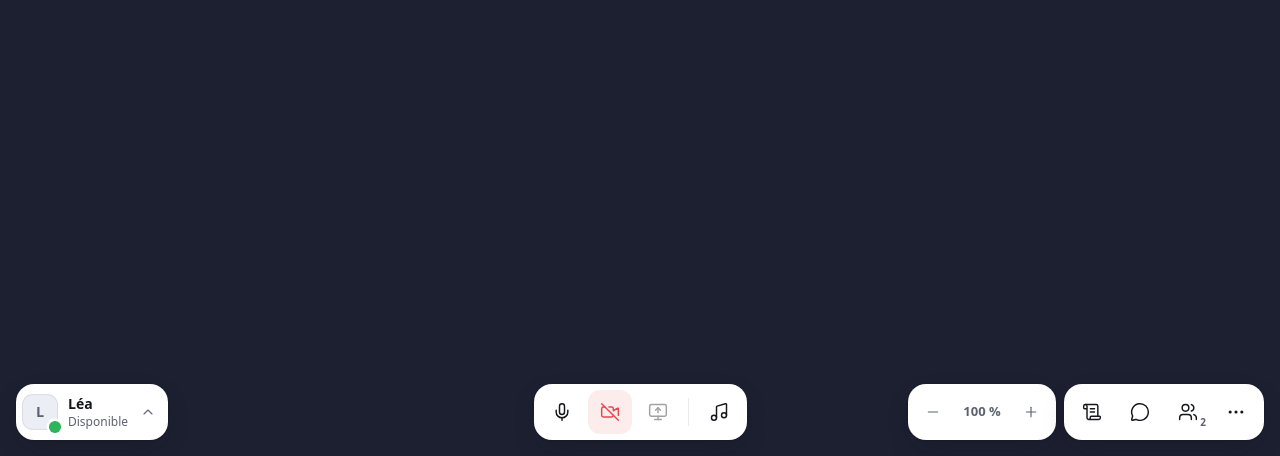
Test: Se déconnecter › pendant la déconnexion : « Déconnexion… », inactif
Click the button with aria-label "Mon profil" at x=92, y=412, box [16, 384, 168, 440]
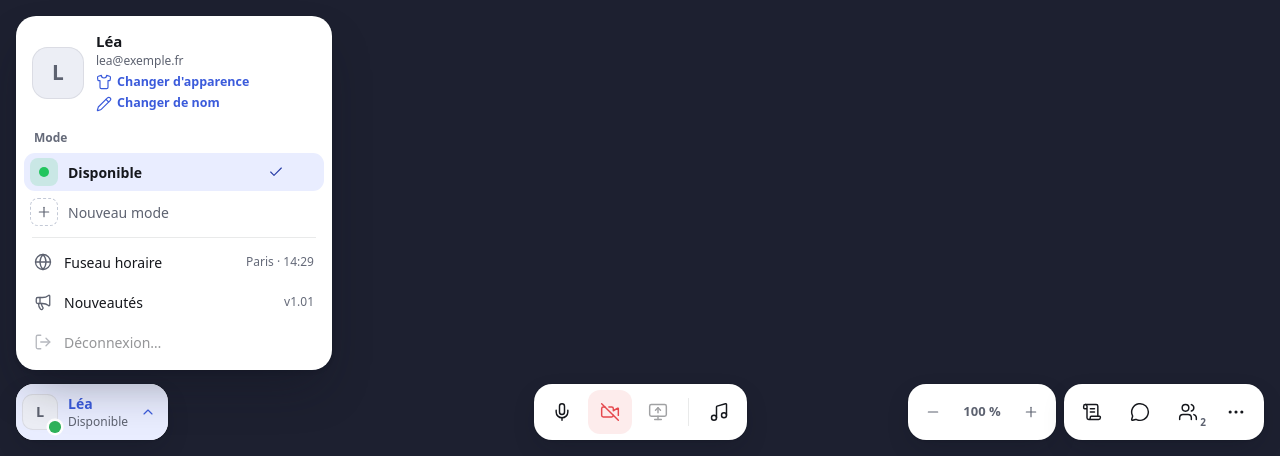
Result: the menu item "Déconnexion…" is disabled at [24, 322, 324, 362]
